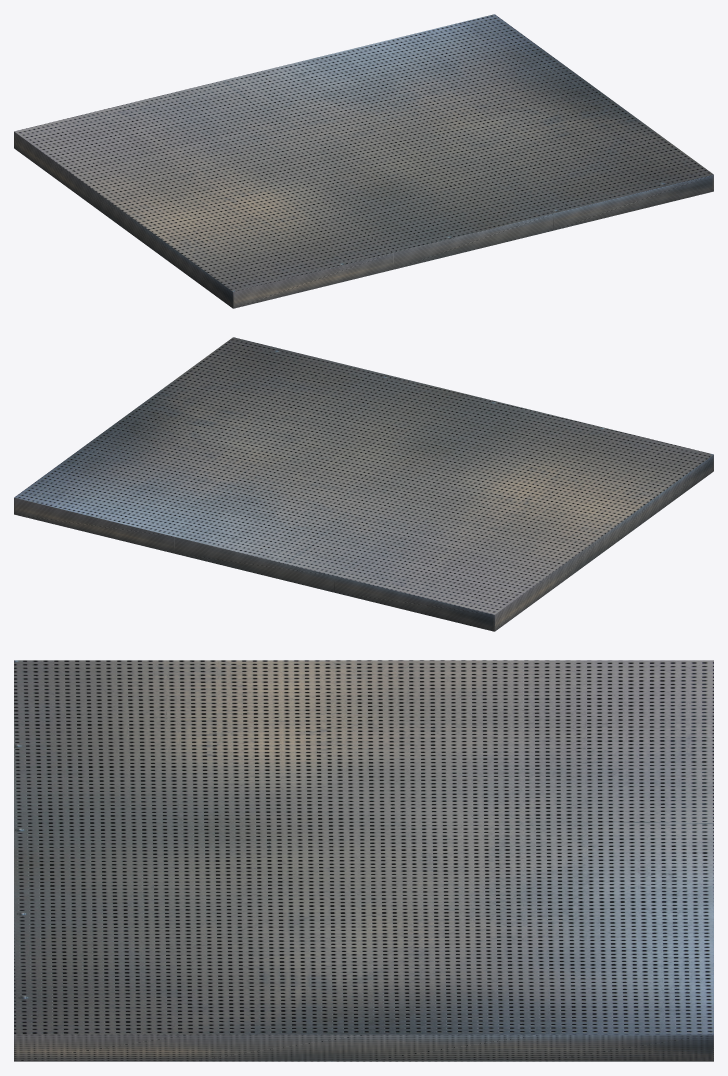
Rendered from ChaoAbre.FBX.
The picture shows the model from 3 angles, top to bottom: view 1: azimuth 30°, elevation 25°; view 2: azimuth 150°, elevation 25°; view 3: azimuth 270°, elevation 25°; orthographic projection. The views are drawn at different scales.
Parts seen in each view (by area): view 1: Box004; view 2: Box004; view 3: Box004.
Boxes of the visible parts, x1,y1,x2,y2 form: Box004: [14, 14, 713, 308]; Box004: [14, 337, 713, 631]; Box004: [14, 660, 713, 1061].
Bounding box in the file's own units: 1136 × 897 × 38.18.
1 material, 1 textured.
